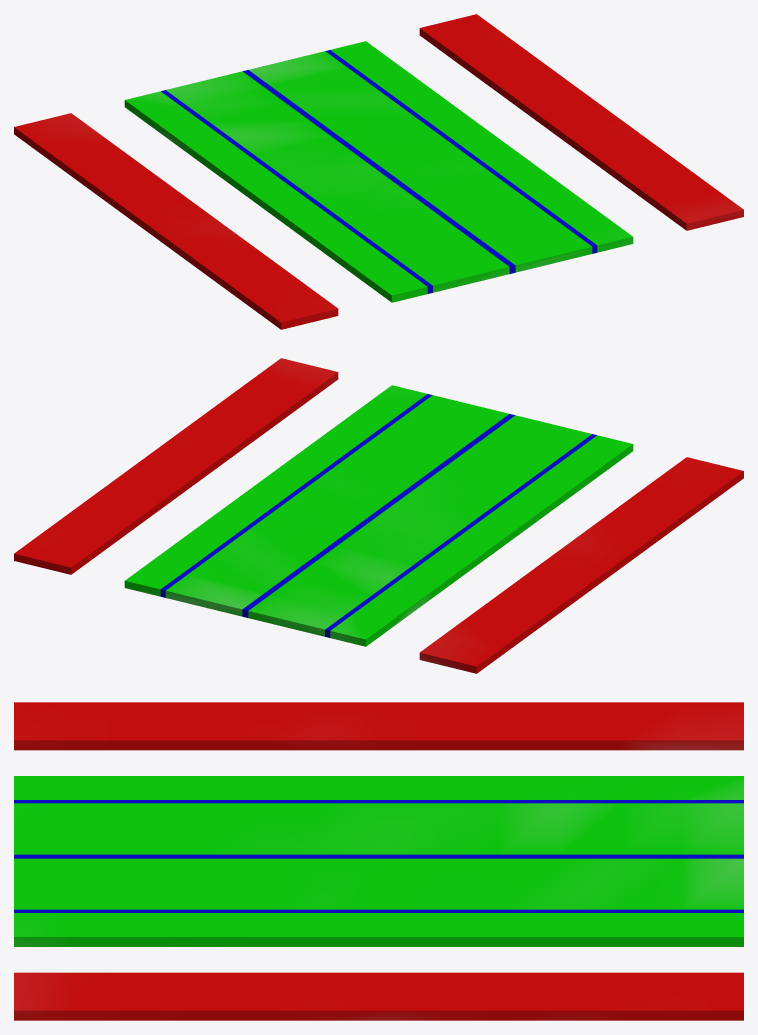
Rendered from vomp_roadRGB.fbx.
3 views of the same model, one above another, from view 1: azimuth 30°, elevation 25°; view 2: azimuth 150°, elevation 25°; view 3: azimuth 270°, elevation 25° (orthographic). The views are drawn at different scales.
Visible parts, largest first — view 1: road; view 2: road; view 3: road.
Part boxes in pixels (x1,y1,x2,y2): road: (14, 14, 743, 329); road: (14, 358, 743, 673); road: (14, 702, 743, 1020).
Bounding box in the file's own units: 200 × 3 × 200.
